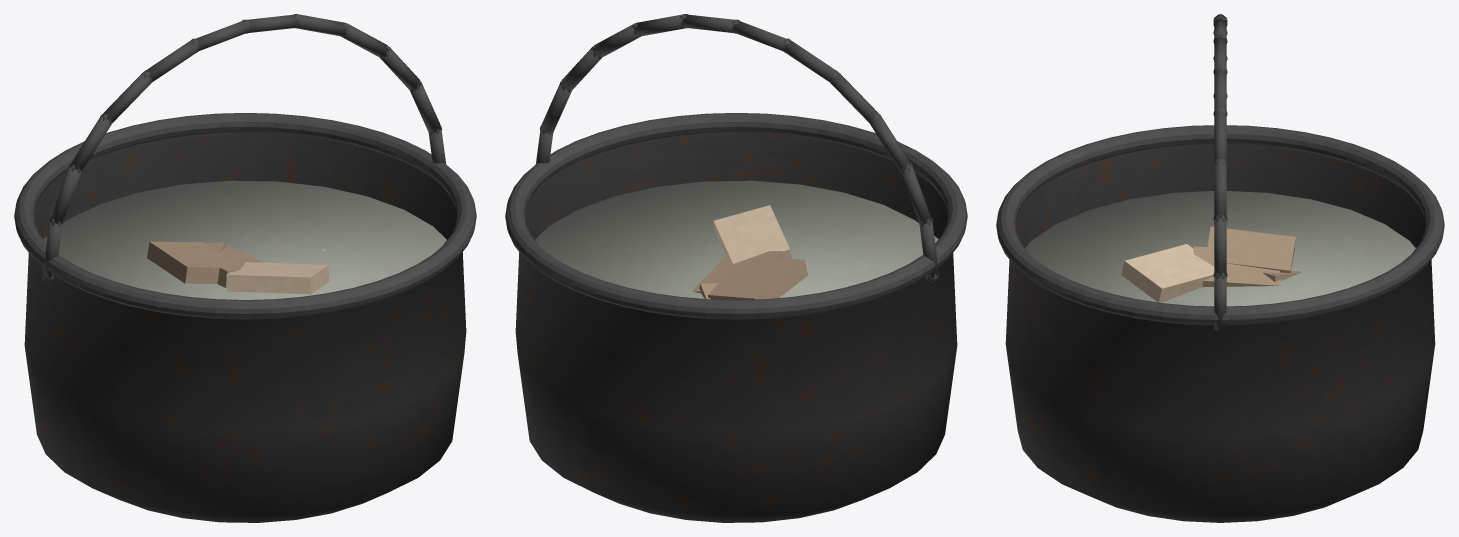
Rendered from FL_HideGluePot.fbx.
The picture shows the model from 3 angles, left to right: view 1: azimuth 30°, elevation 25°; view 2: azimuth 150°, elevation 25°; view 3: azimuth 270°, elevation 25°; orthographic projection. The views are drawn at different scales.
Parts seen in each view (by area): view 1: FL_HideGluePot; view 2: FL_HideGluePot; view 3: FL_HideGluePot.
Part boxes in pixels (<box>): FL_HideGluePot: <box>14,14,476,522</box>; FL_HideGluePot: <box>505,14,967,522</box>; FL_HideGluePot: <box>996,14,1444,522</box>.
Bounding box in the file's own units: 0.0158 × 0.0161 × 0.0157.
